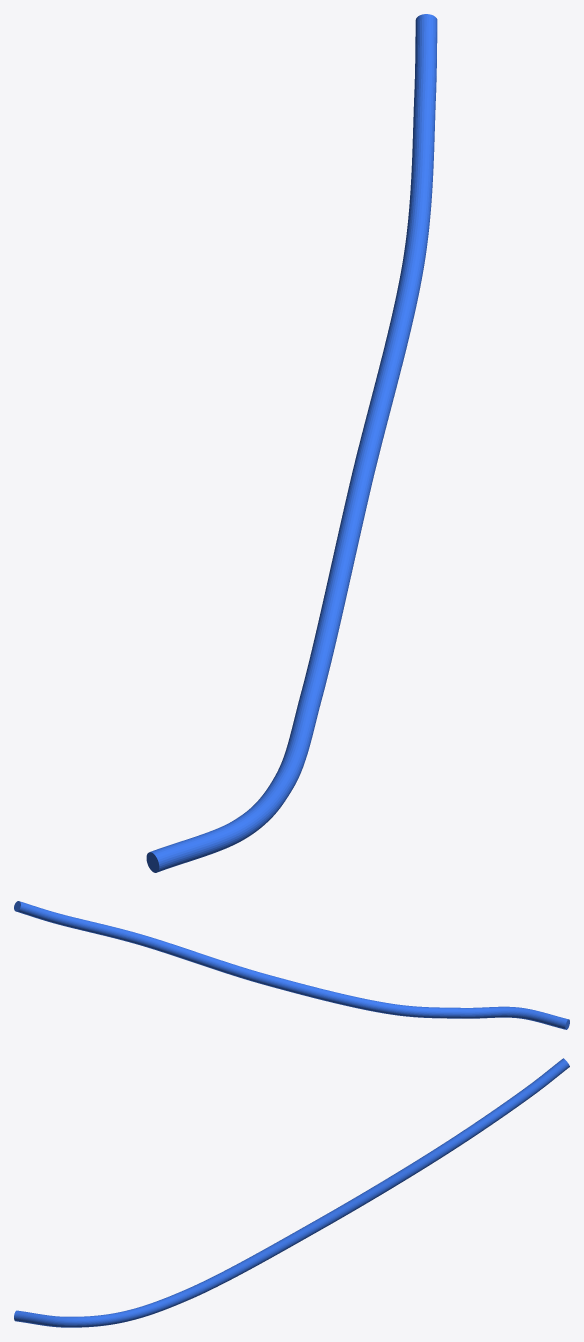
The model's file is faces11 - linechin.glb.
3 views of the same model, one above another, from view 1: azimuth 30°, elevation 25°; view 2: azimuth 150°, elevation 25°; view 3: azimuth 330°, elevation 25° (orthographic). The views are drawn at different scales.
Parts seen in each view (by area): view 1: Tube; view 2: Tube; view 3: Tube.
Boxes of the visible parts, left/top/right/bottom form: Tube: left=146, top=14, right=437, bottom=872; Tube: left=14, top=901, right=569, bottom=1029; Tube: left=14, top=1058, right=569, bottom=1327.
Bounding box in the file's own units: 0.4055 × 0.2171 × 0.4259.
